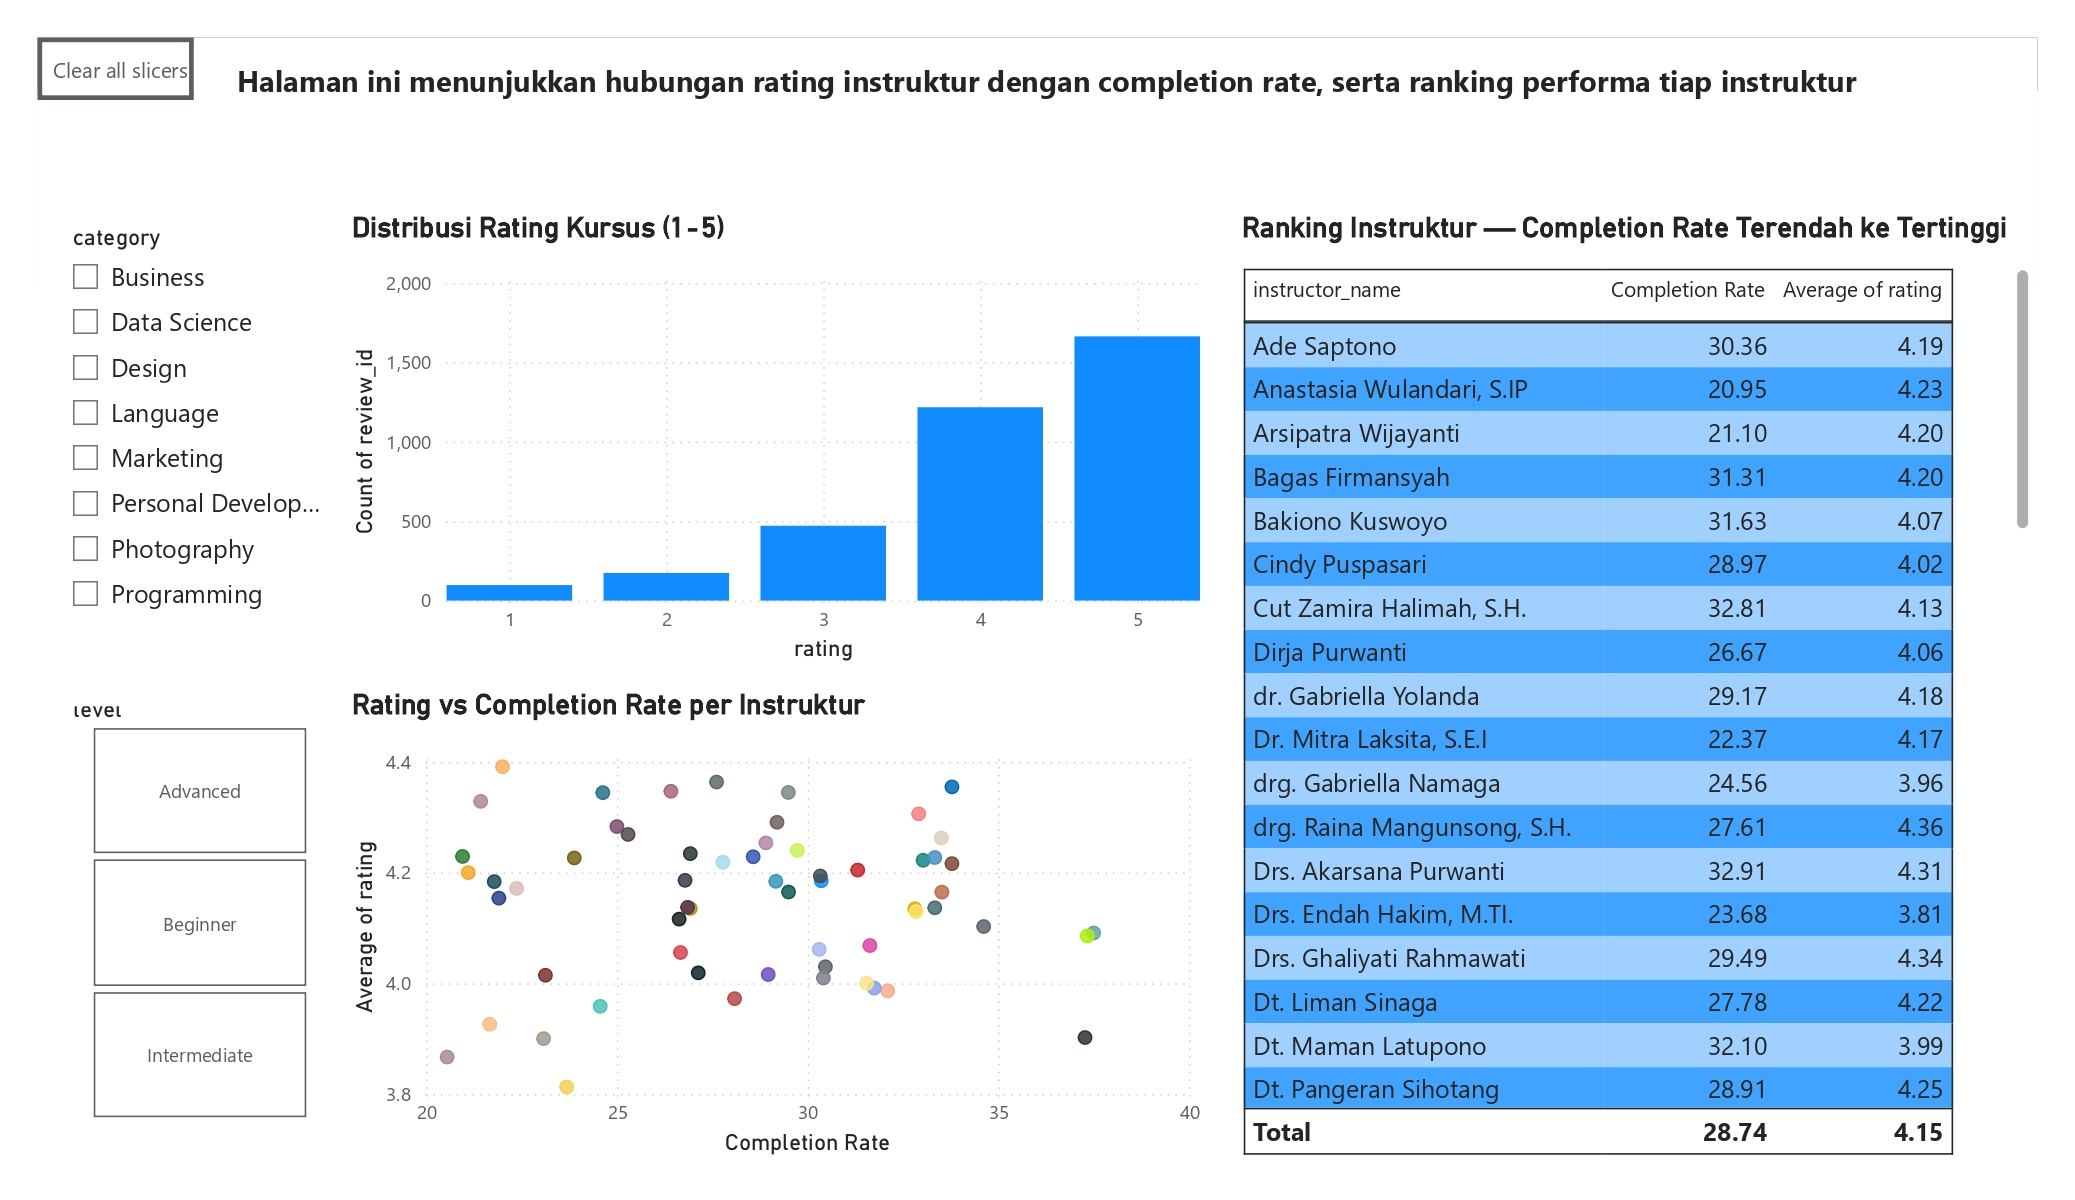

The page's visual inventory and layout, read from the dashboard file:
{"tool":"powerbi","page":{"name":"Instructor Performance","canvas":[1280,720],"ordinal":5},"visuals":[{"type":"scatterChart","title":"Rating vs Completion Rate per Instruktur","fields":{"Series":["dim_instructors_cleaned.instructor_name"],"X":["fact_enrollments_cleaned.Completion Rate"],"Y":["Avg(fact_reviews_cleaned.rating)"]},"box":[195.6,416,553.2,303.6],"z":0},{"type":"tableEx","title":"Ranking Instruktur — Completion Rate Terendah ke Tertinggi","fields":{"Values":["dim_instructors_cleaned.instructor_name","fact_enrollments_cleaned.Completion Rate","Avg(fact_reviews_cleaned.rating)"]},"box":[766.2,110.9,513.8,608.6],"z":1},{"type":"clusteredColumnChart","title":"Distribusi Rating Kursus (1-5)","fields":{"Category":["fact_reviews_cleaned.rating"],"Y":["CountNonNull(fact_reviews_cleaned.review_id)"]},"box":[195.6,110.9,553.2,293.4],"z":2},{"type":"slicer","fields":{"Values":["dim_courses_cleaned.level"]},"box":[10.1,417.2,185.6,280.5],"z":3},{"type":"slicer","fields":{"Values":["dim_courses_cleaned.category"]},"box":[10.1,115.1,186,313],"z":4},{"type":"actionButton","box":[0,0,100,40],"z":5},{"type":"textbox","box":[102.6,10.3,1086.5,58.6],"z":6}]}

Visuals, with their boxes on the page's 1280x720 design canvas (x1, y1, x2, y2). These are canvas units, not pixel positions in the 2075x1200 screenshot, which may show the page scaled, cropped or inside an application window:
"Rating vs Completion Rate per Instruktur" scatterChart: region(196, 416, 749, 720)
"Ranking Instruktur — Completion Rate Terendah ke Tertinggi" tableEx: region(766, 111, 1280, 720)
"Distribusi Rating Kursus (1-5)" clusteredColumnChart: region(196, 111, 749, 404)
slicer - dim_courses_cleaned.level: region(10, 417, 196, 698)
slicer - dim_courses_cleaned.category: region(10, 115, 196, 428)
actionButton: region(0, 0, 100, 40)
textbox: region(103, 10, 1189, 69)
